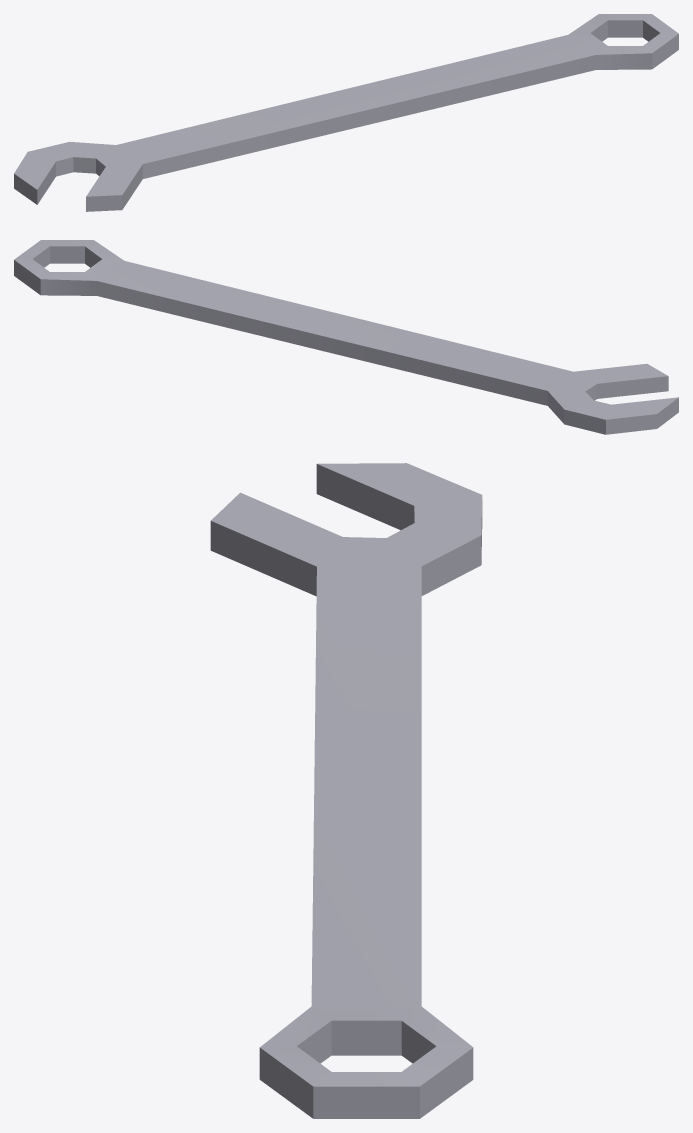
File: 94d5c373-7204-4f00-b393-57d25bdef77e.glb
3 renders of one model, top to bottom at view 1: azimuth 30°, elevation 25°; view 2: azimuth 150°, elevation 25°; view 3: azimuth 270°, elevation 25°, orthographic. The views are drawn at different scales.
Parts seen in each view (by area): view 1: ComboWrenchObj; view 2: ComboWrenchObj; view 3: ComboWrenchObj.
Boxes of the visible parts, x1,y1,x2,y2 form: ComboWrenchObj: [14, 14, 678, 211]; ComboWrenchObj: [14, 240, 678, 434]; ComboWrenchObj: [210, 463, 482, 1118].
Size of the model in its own units: 0.2683 by 0.00698 by 0.0493.
1 material, 1 textured.
